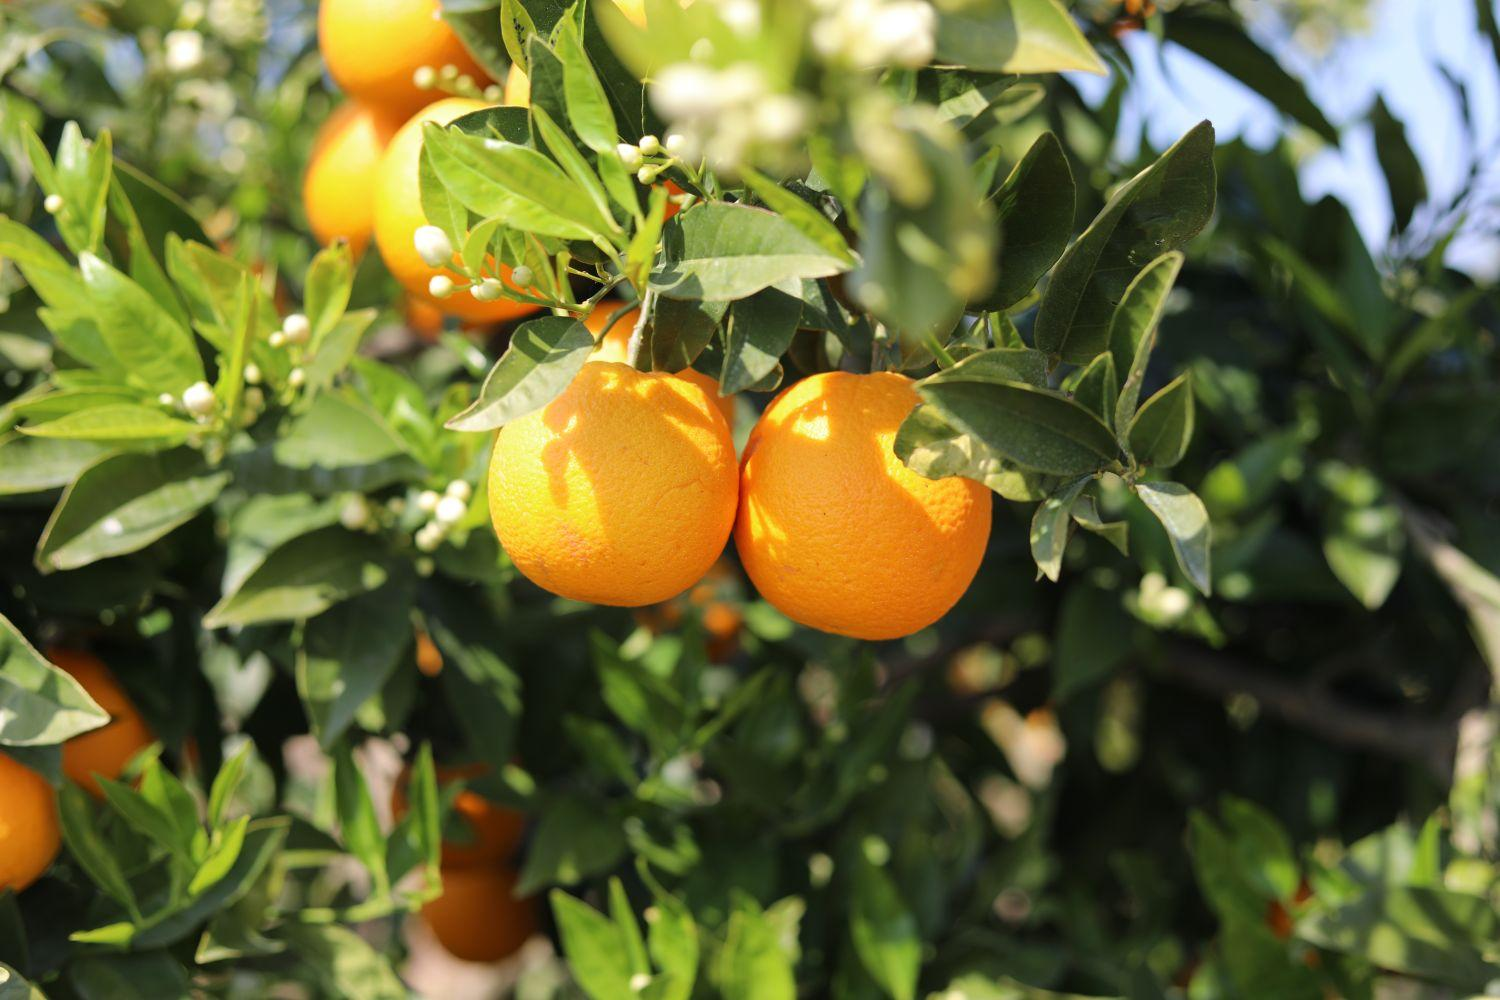orange: (734, 363, 1003, 656), (488, 350, 743, 626)
